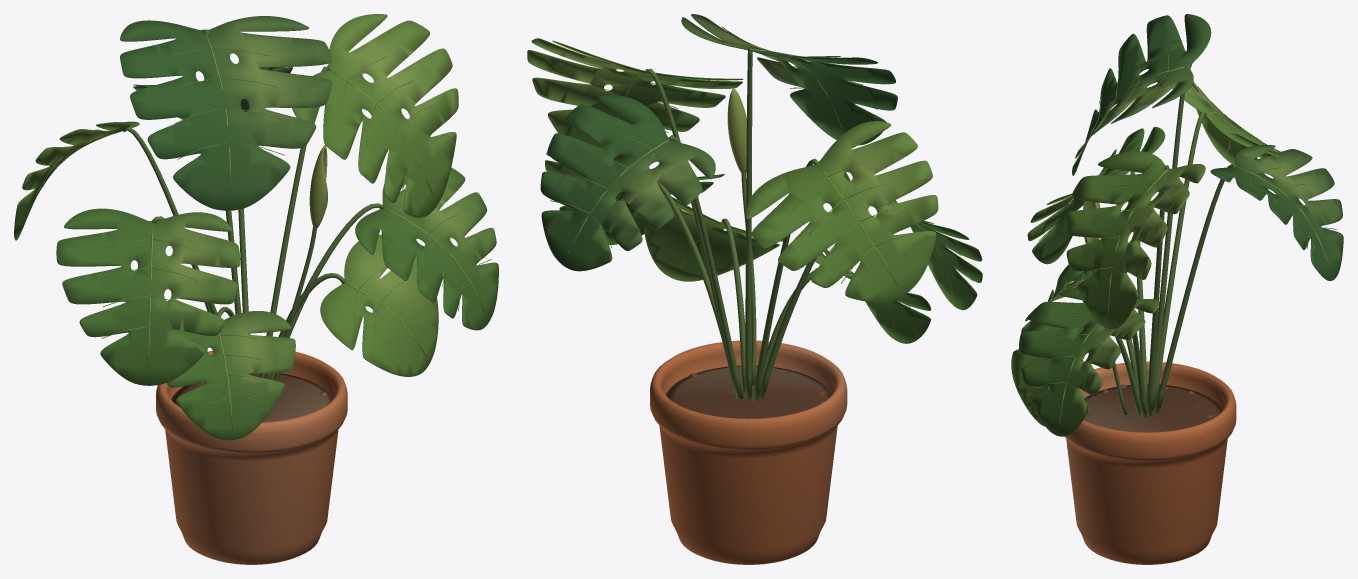
Rendered from monstera.glb.
The picture shows the model from 3 angles, left to right: view 1: azimuth 30°, elevation 25°; view 2: azimuth 150°, elevation 25°; view 3: azimuth 270°, elevation 25°; orthographic projection. The views are drawn at different scales.
Parts seen in each view (by area): view 1: leaf2, pot, leaf0, leaf1, leaf3, leaf6, leaf7, leaf4, leaf8, leaf5; view 2: pot, leaf4, leaf5, leaf2, leaf1, leaf7, leaf0, leaf6, leaf8, leaf3; view 3: pot, leaf1, leaf3, leaf5, leaf2, leaf4, leaf0, leaf7, leaf6, leaf8.
Boxes of the visible parts, x1=… form: leaf2: x1=120, y1=16, x2=331, y2=314; pot: x1=156, y1=350, x2=347, y2=564; leaf0: x1=56, y1=208, x2=240, y2=385; leaf1: x1=260, y1=14, x2=458, y2=377; leaf3: x1=270, y1=167, x2=498, y2=380; leaf6: x1=167, y1=307, x2=295, y2=440; leaf7: x1=264, y1=234, x2=438, y2=379; leaf4: x1=14, y1=121, x2=210, y2=312; leaf8: x1=274, y1=145, x2=327, y2=381; leaf5: x1=133, y1=67, x2=292, y2=375; pot: x1=650, y1=340, x2=847, y2=564; leaf4: x1=746, y1=121, x2=938, y2=401; leaf5: x1=540, y1=95, x2=743, y2=399; leaf2: x1=681, y1=14, x2=897, y2=398; leaf1: x1=527, y1=38, x2=743, y2=394; leaf7: x1=643, y1=192, x2=783, y2=391; leaf0: x1=759, y1=172, x2=982, y2=398; leaf6: x1=761, y1=249, x2=931, y2=381; leaf8: x1=727, y1=88, x2=756, y2=385; leaf3: x1=545, y1=152, x2=726, y2=359; pot: x1=1065, y1=361, x2=1236, y2=564; leaf1: x1=1064, y1=151, x2=1205, y2=416; leaf3: x1=1019, y1=287, x2=1159, y2=436; leaf5: x1=1153, y1=145, x2=1343, y2=413; leaf2: x1=1072, y1=14, x2=1211, y2=410; leaf4: x1=1155, y1=81, x2=1280, y2=405; leaf0: x1=1027, y1=126, x2=1165, y2=406; leaf7: x1=1011, y1=323, x2=1140, y2=426; leaf6: x1=1021, y1=265, x2=1138, y2=392; leaf8: x1=1083, y1=200, x2=1127, y2=415.
Size of the model in its own units: 0.8736 by 1 by 0.632.
